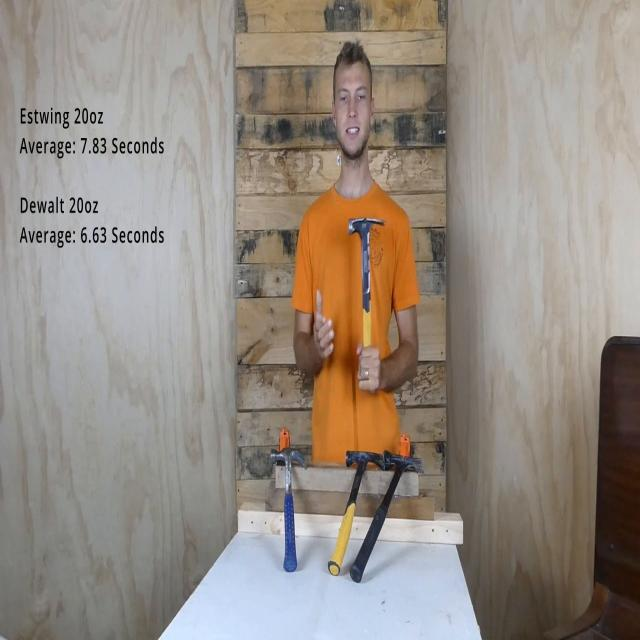hammer: (351, 454, 423, 583), (328, 451, 384, 578), (348, 216, 384, 349), (270, 447, 306, 572)
